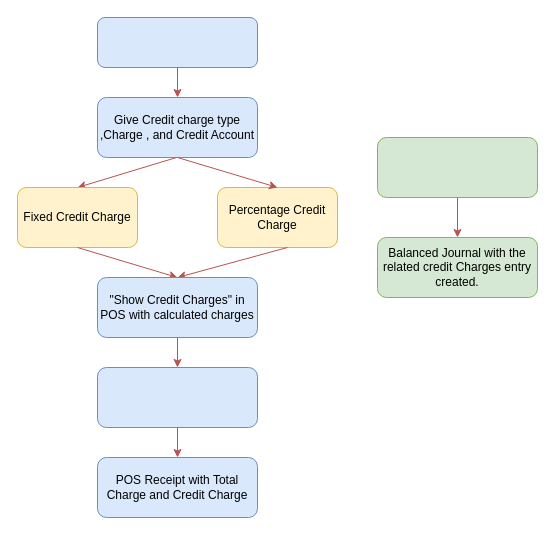
The diagram is 555 pixels wide and 535 high, and some of its shapes have lost their labels. The centre of each missing label's shape, as x and y in pixels:
Enable Credit Card Charges: [177,42]
Payment with configured account and its charges: [177,397]
Validate POS Session: [457,167]
